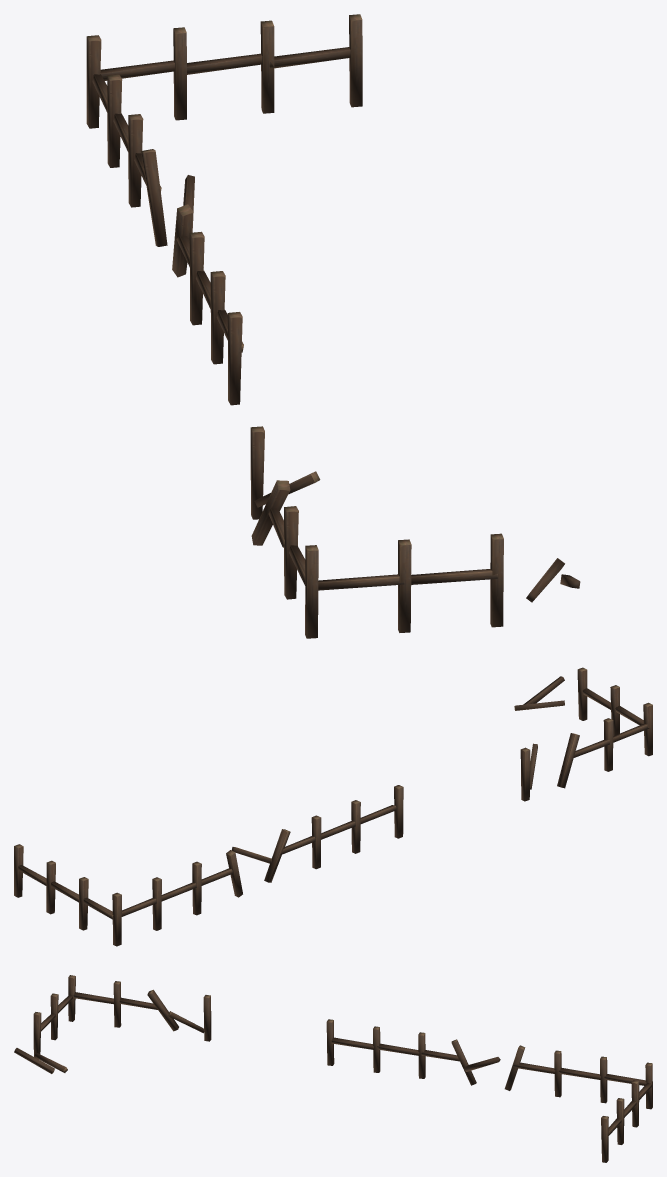
File: zhalan01.FBX
3 views of the same model, one above another, from view 1: azimuth 30°, elevation 25°; view 2: azimuth 150°, elevation 25°; view 3: azimuth 270°, elevation 25° (orthographic). The views are drawn at different scales.
Parts seen in each view (by area): view 1: zhalan01; view 2: zhalan01; view 3: zhalan01.
Part boxes in pixels (box(x1,y1,x2,y2)): zhalan01: box(86, 14, 580, 638); zhalan01: box(14, 667, 652, 946); zhalan01: box(14, 975, 652, 1162).
Size of the model in its own units: 1775 by 253 by 3328.
